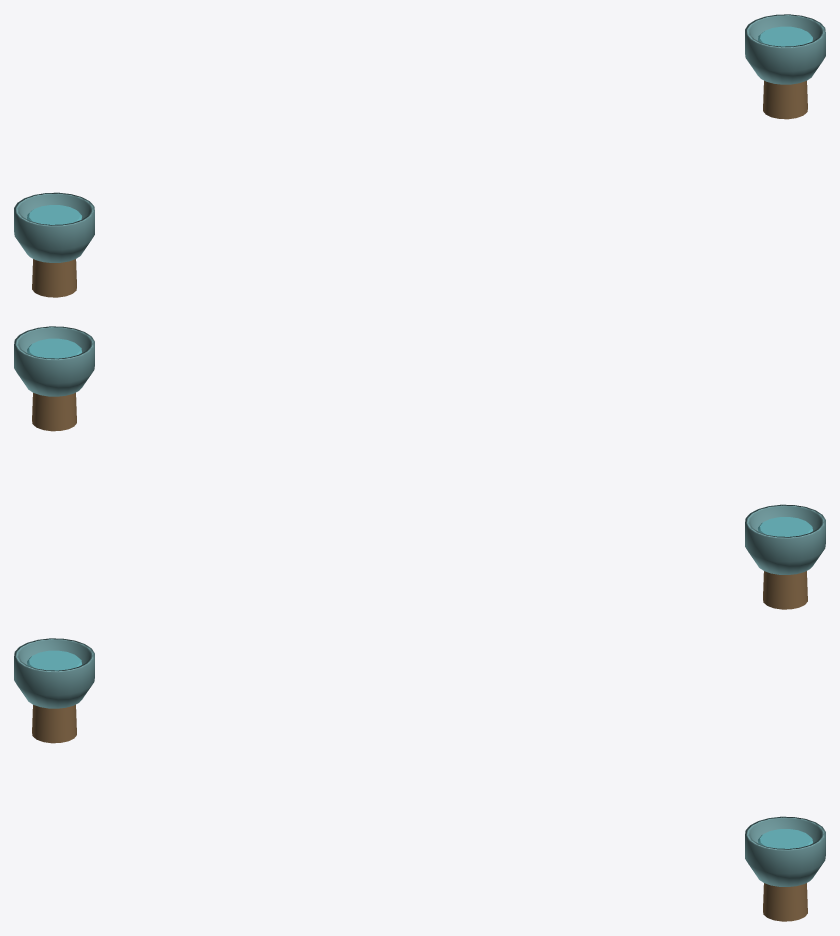
The model's file is fixture-water-v01.glb.
3 views of the same model, one above another, from view 1: azimuth 30°, elevation 25°; view 2: azimuth 150°, elevation 25°; view 3: azimuth 330°, elevation 25° (orthographic).
Visible parts, largest first — view 1: bowl (×2), post (×2), surface (×2); view 2: bowl (×2), post (×2), surface (×2); view 3: bowl (×2), post (×2), surface (×2).
Boxes of the visible parts, x1=… form: bowl (×2): x1=14, y1=14, x2=825, y2=262; post (×2): x1=32, y1=80, x2=807, y2=297; surface (×2): x1=27, y1=26, x2=812, y2=224; bowl (×2): x1=14, y1=326, x2=825, y2=574; post (×2): x1=32, y1=392, x2=807, y2=609; surface (×2): x1=27, y1=338, x2=812, y2=536; bowl (×2): x1=14, y1=638, x2=825, y2=886; post (×2): x1=32, y1=704, x2=807, y2=921; surface (×2): x1=27, y1=650, x2=812, y2=848.
Bounding box in the file's own units: 1.83 × 0.1707 × 0.1612.
